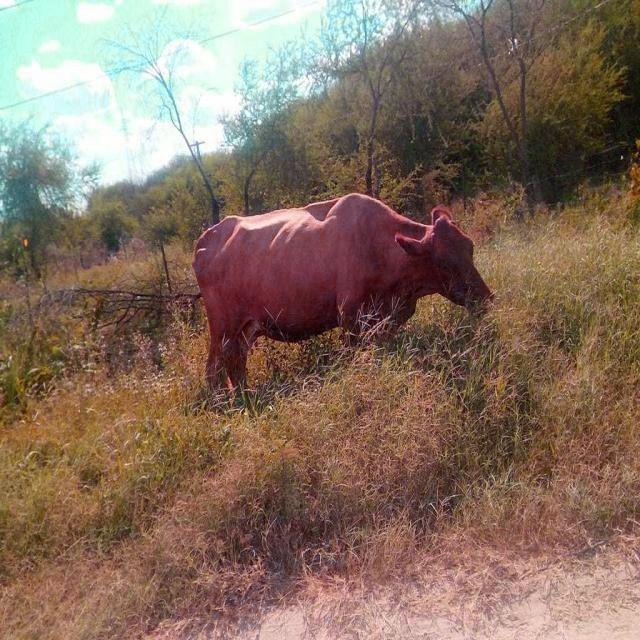cow: (192, 194, 494, 389)
